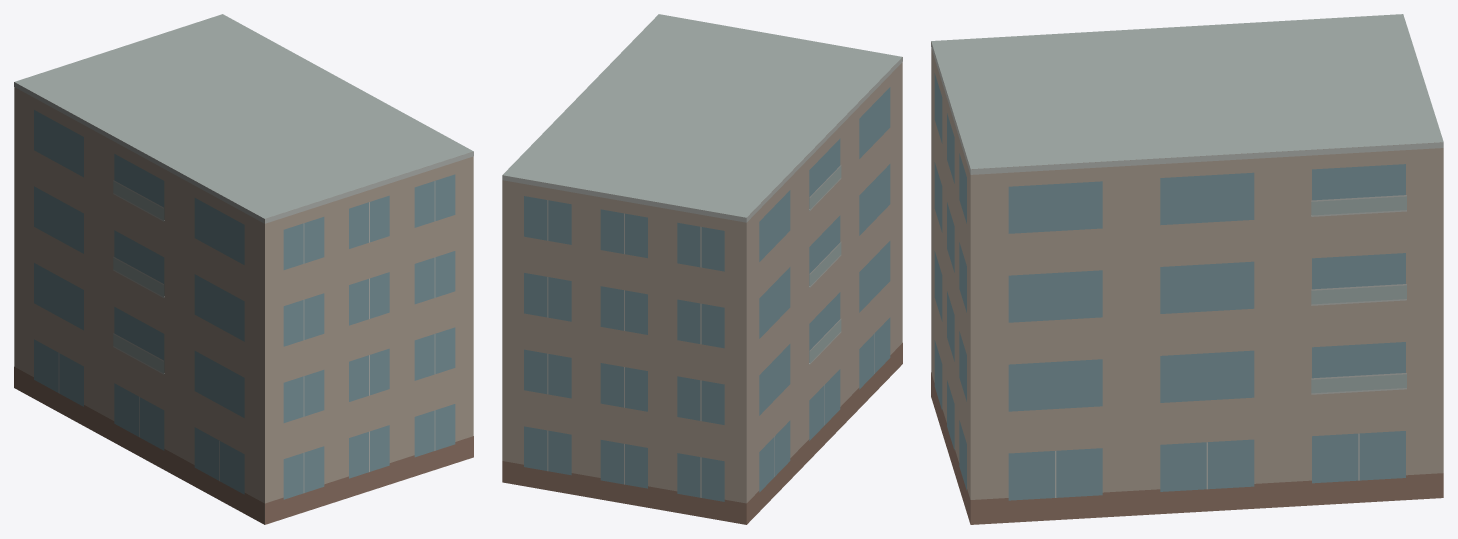
The model's file is survey-upis-32460745.glb.
3 renders of one model, left to right at view 1: azimuth 30°, elevation 25°; view 2: azimuth 150°, elevation 25°; view 3: azimuth 270°, elevation 25°, orthographic. The views are drawn at different scales.
Parts seen in each view (by area): view 1: survey-upis-32460745.tmp; view 2: survey-upis-32460745.tmp; view 3: survey-upis-32460745.tmp.
Boxes of the visible parts, <box> form: survey-upis-32460745.tmp: <box>14,14,473,524</box>; survey-upis-32460745.tmp: <box>502,14,902,524</box>; survey-upis-32460745.tmp: <box>931,14,1443,524</box>.
Bounding box in the file's own units: 14.14 × 15.1 × 19.73.
